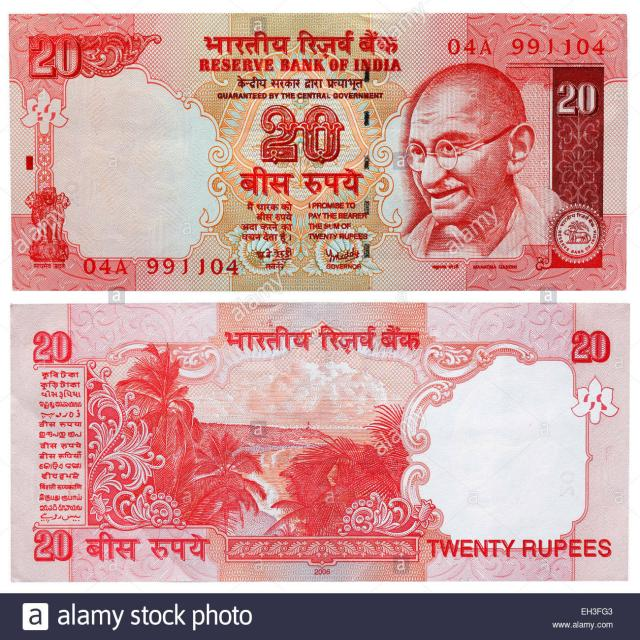20IndianRupees: (11, 309, 631, 582)
